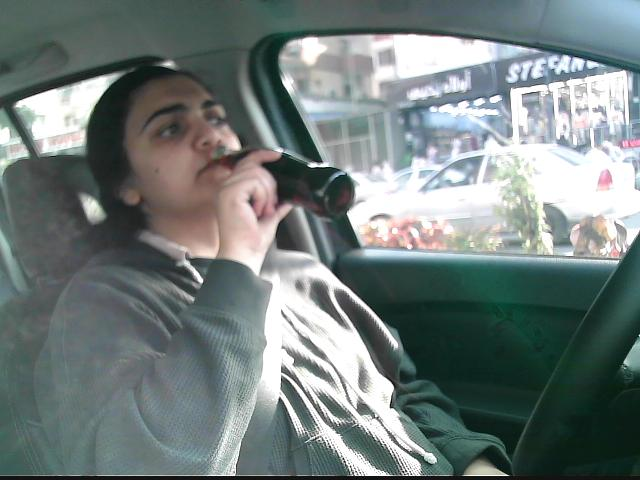Drinking: (116, 74, 357, 244)
